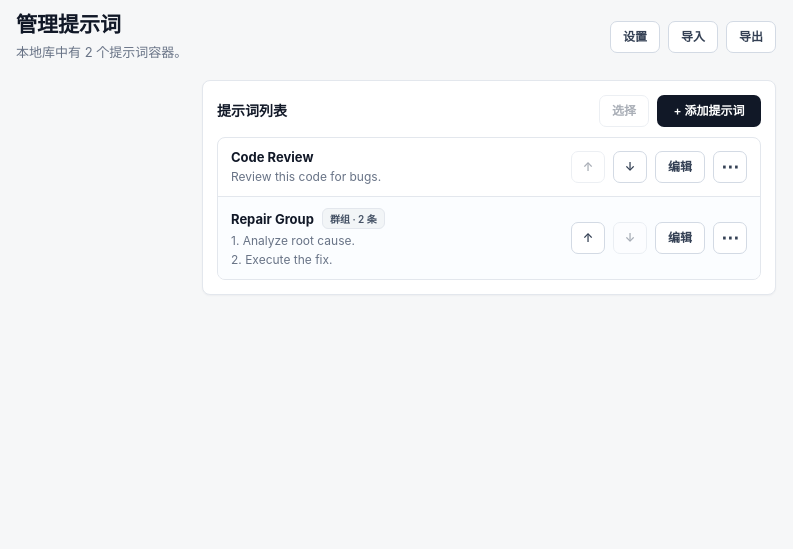
prompt manager › keeps the create panel collapsed until adding a prompt
This screenshot has width=793, height=549.
Expected: the heading "新建提示词容器" is not shown
Click the button "+ 添加提示词" at (709, 111), box x1=657 y1=95 x2=761 y2=127
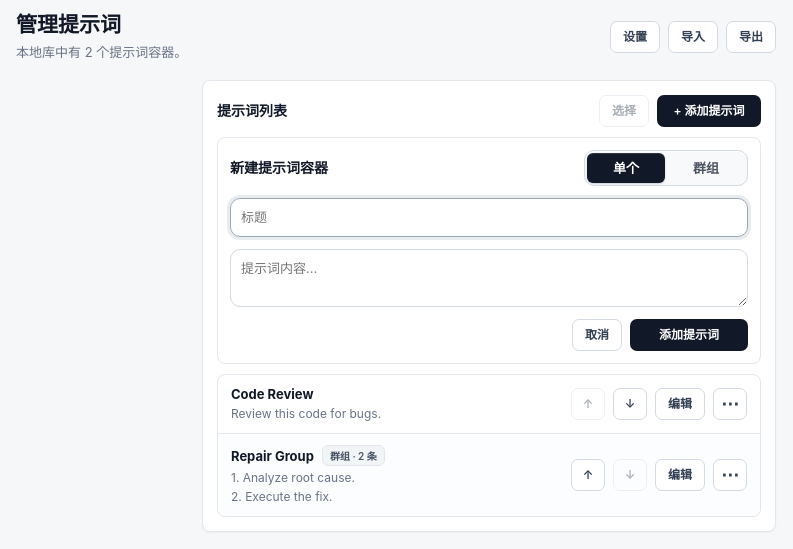
Now the element "单个" is shown, box x1=230 y1=150 x2=748 y2=186
Now the element "单个" shows "新建提示词容器", box x1=230 y1=159 x2=328 y2=176
